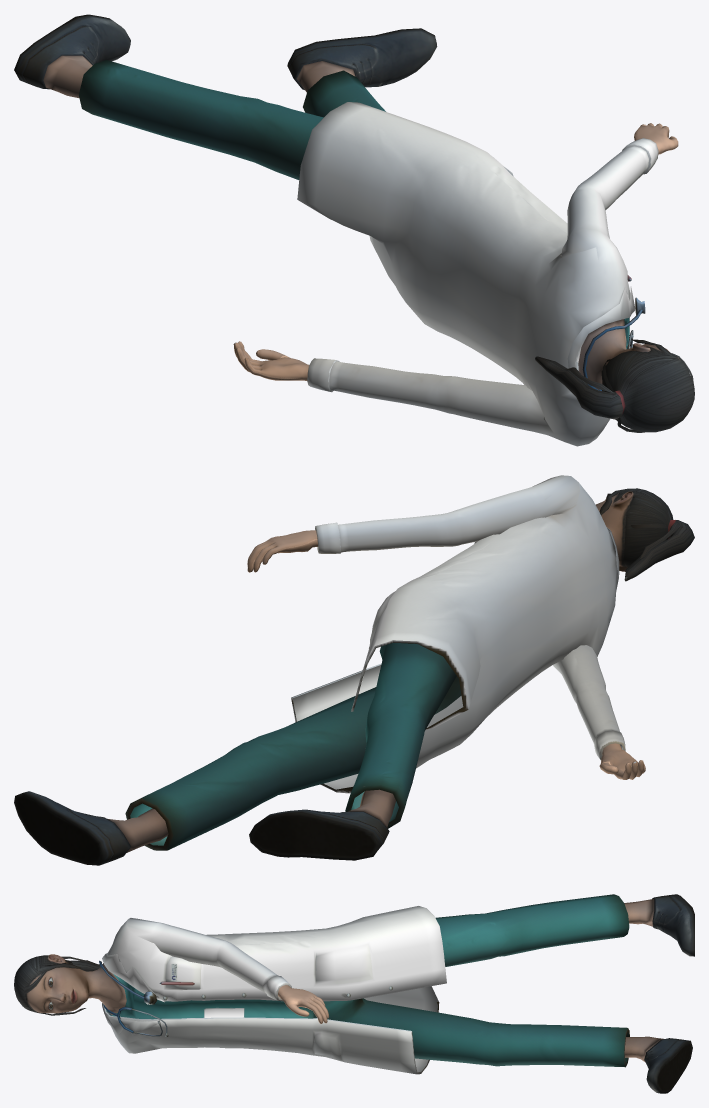
The model's file is walk.obj.
3 renders of one model, top to bottom at view 1: azimuth 30°, elevation 25°; view 2: azimuth 150°, elevation 25°; view 3: azimuth 270°, elevation 25°, orthographic. The views are drawn at different scales.
Bounding box in the file's own units: 0.8806 × 0.372 × 1.7.
Materials: 1 (1 with a texture image).
